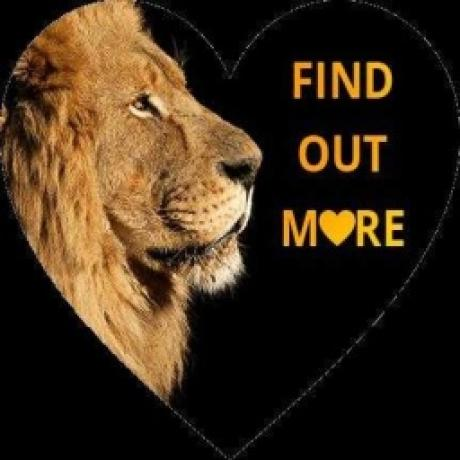Lion: (3, 0, 263, 400)
